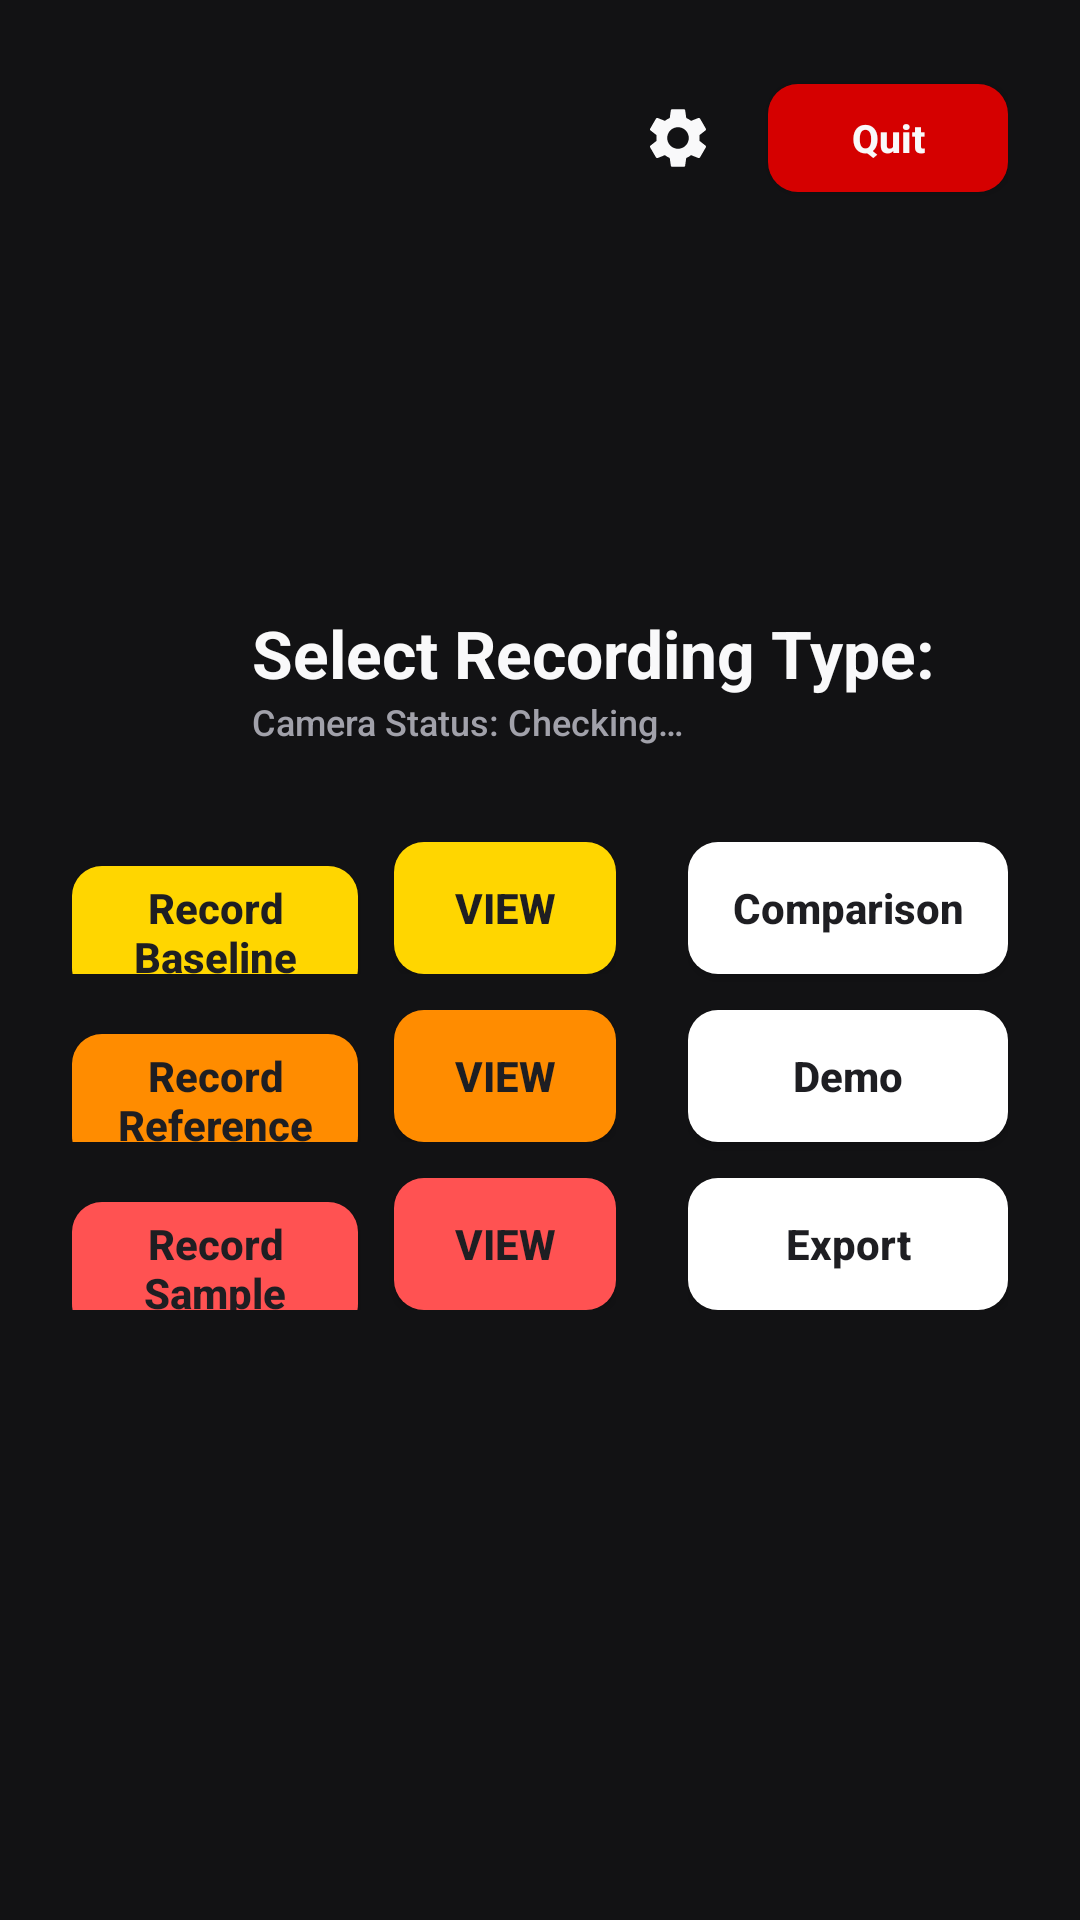

Locate icon controls on the screen. Image size 1080px x 1920px, boxes as (x1, y1, x2, y2).
Settings: (650, 109, 706, 167)
